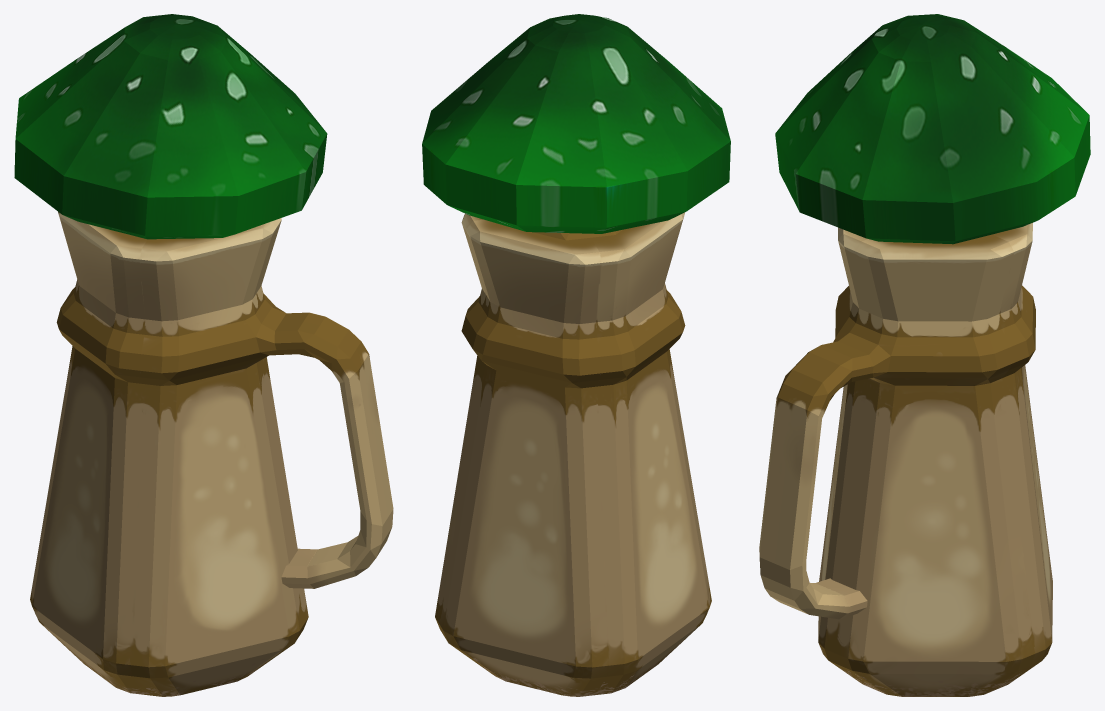
Rendered from potion_green.fbx.
3 renders of one model, left to right at view 1: azimuth 30°, elevation 25°; view 2: azimuth 150°, elevation 25°; view 3: azimuth 270°, elevation 25°, orthographic.
Parts seen in each view (by area): view 1: green potion; view 2: green potion; view 3: green potion.
Part boxes in pixels (x1,y1,x2,y2): green potion: (14, 14, 393, 696); green potion: (422, 14, 730, 696); green potion: (759, 14, 1090, 696).
Size of the model in its own units: 11.87 by 11.81 by 25.49.
